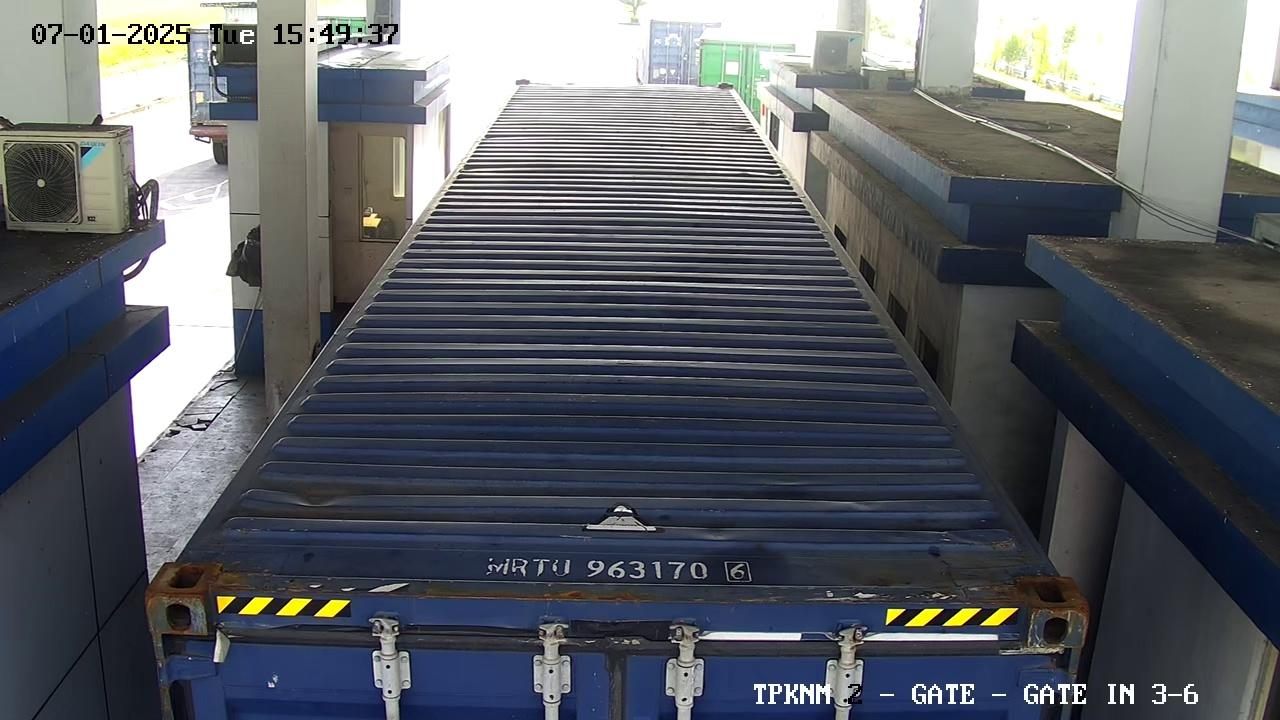Container_ID: (470, 542, 756, 602)
